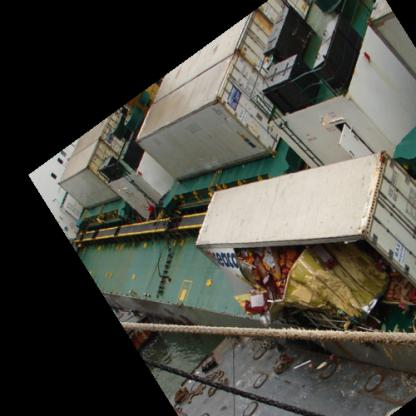Damage: (182, 235, 415, 345)
